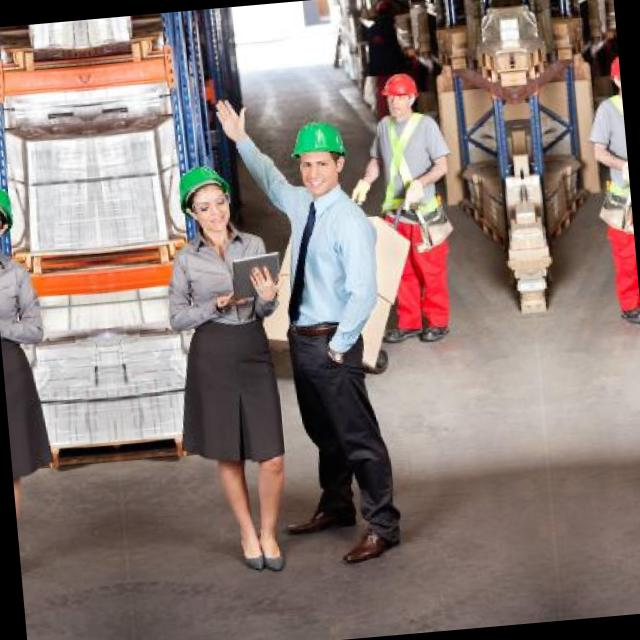helmet: (170, 151, 238, 250), (286, 108, 350, 196), (372, 61, 426, 129), (0, 169, 22, 267), (598, 44, 620, 112)
